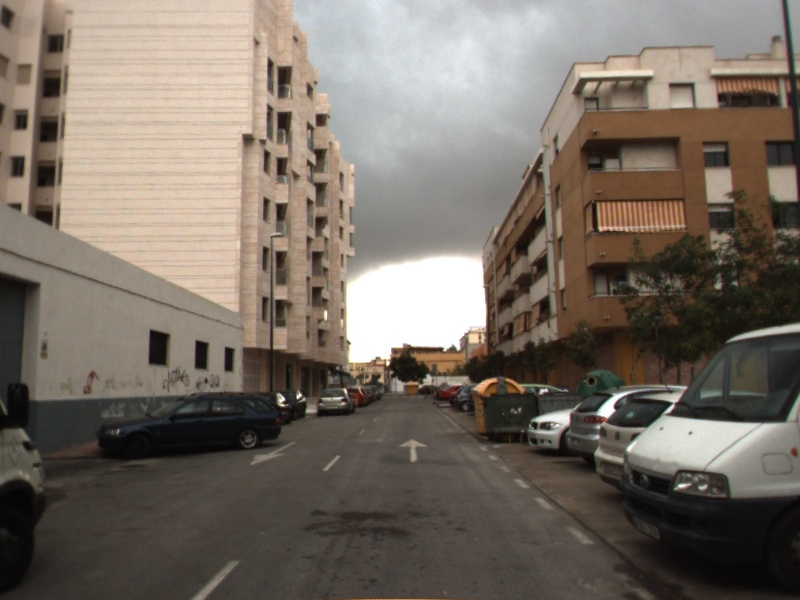STRAIGHT: (397, 437, 431, 464)
